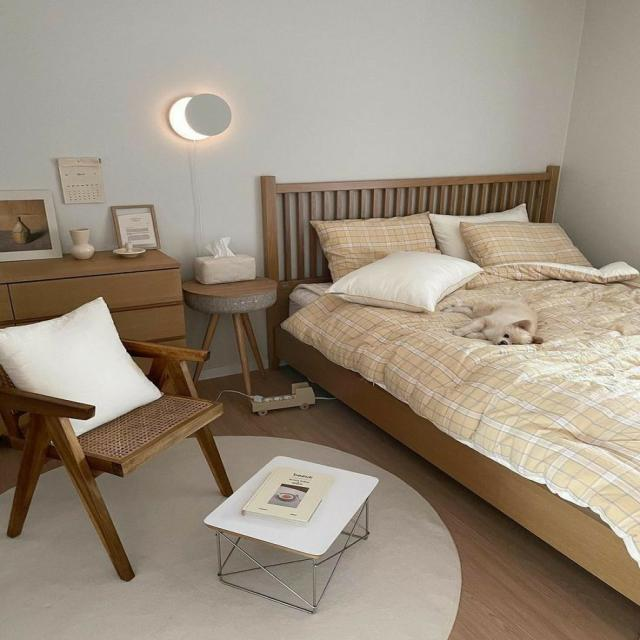obstacle: (259, 165, 639, 606), (0, 296, 234, 582), (203, 455, 379, 614)
